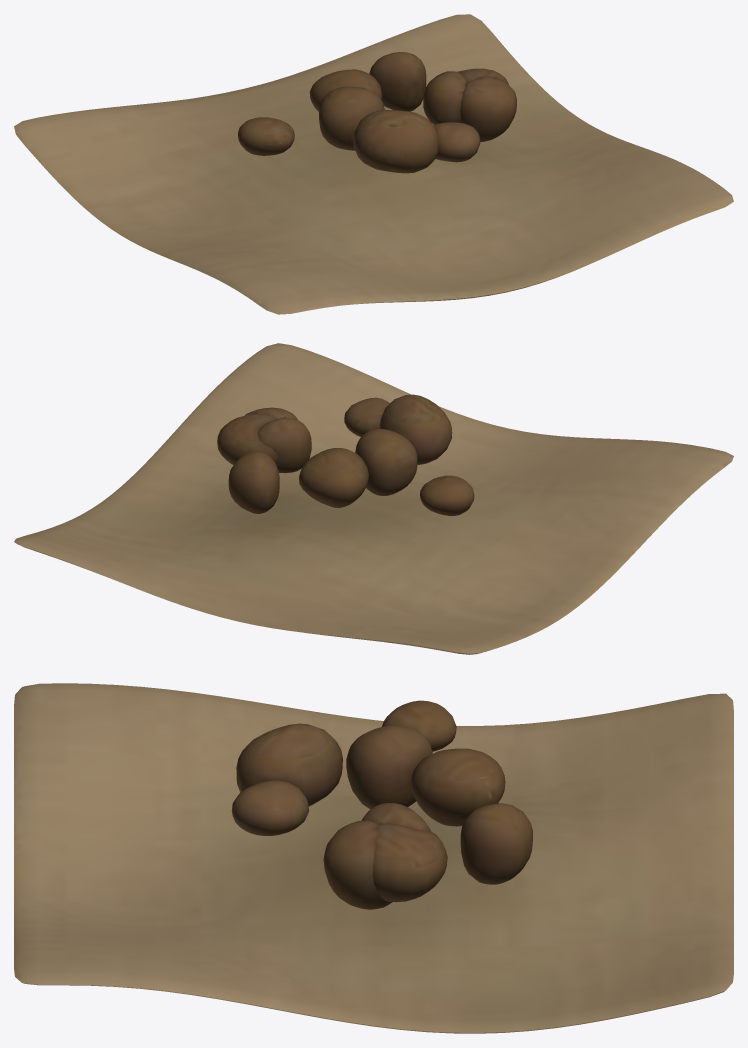
The model's file is oak_galls.glb.
3 renders of one model, top to bottom at view 1: azimuth 30°, elevation 25°; view 2: azimuth 150°, elevation 25°; view 3: azimuth 270°, elevation 25°, orthographic. The views are drawn at different scales.
Parts seen in each view (by area): view 1: oak_galls; view 2: oak_galls; view 3: oak_galls.
Part boxes in pixels (x1,y1,x2,y2): oak_galls: (14, 14, 733, 314); oak_galls: (14, 343, 733, 654); oak_galls: (14, 683, 733, 1033).
Size of the model in its own units: 0.1193 by 0.0292 by 0.1193.
Materials: 1 (1 with a texture image).
